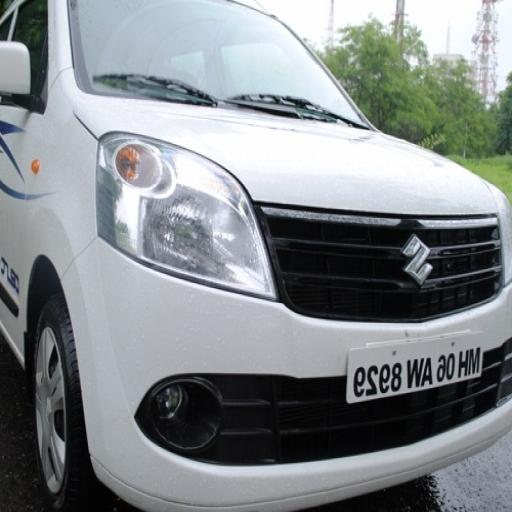License: (348, 332, 489, 400)
